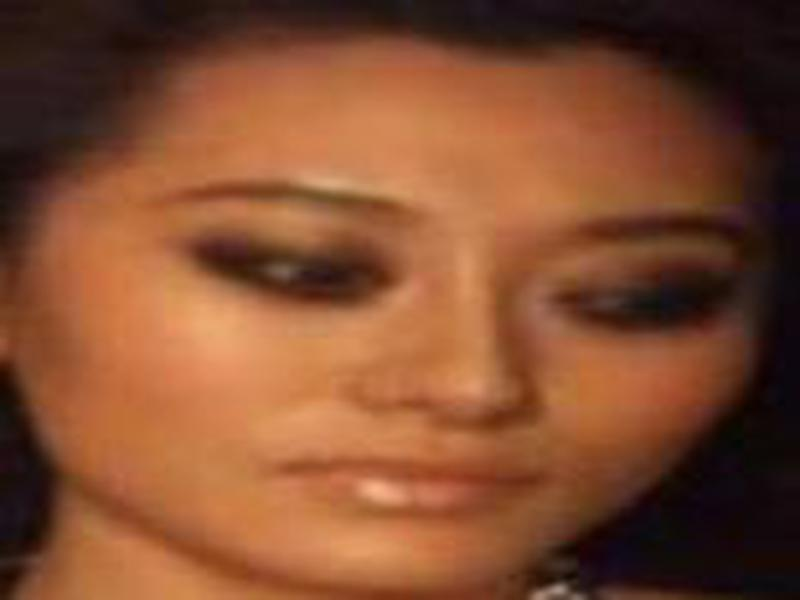without_mask: (33, 46, 768, 589)
